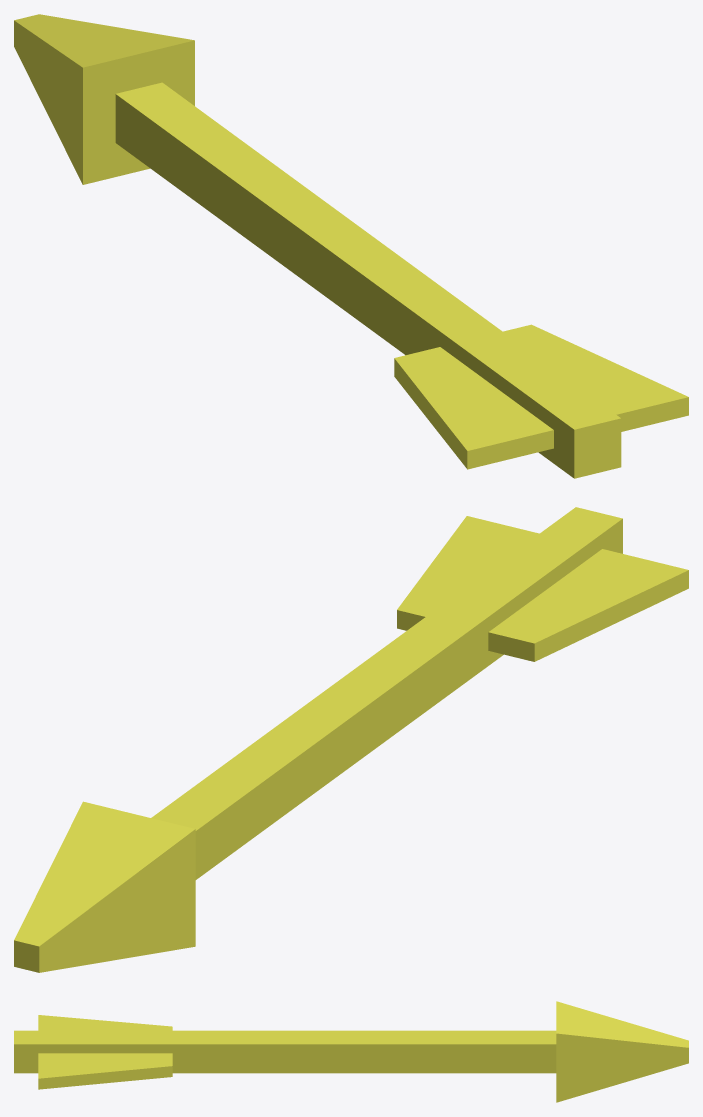
Rendered from arrow.glb.
3 renders of one model, top to bottom at view 1: azimuth 30°, elevation 25°; view 2: azimuth 150°, elevation 25°; view 3: azimuth 270°, elevation 25°, orthographic. The views are drawn at different scales.
Visible parts, largest first — view 1: Cube; view 2: Cube; view 3: Cube.
Part boxes in pixels (left/top/right/bottom): Cube: left=14, top=14, right=688, bottom=478; Cube: left=14, top=507, right=688, bottom=972; Cube: left=14, top=1001, right=688, bottom=1102.
Size of the model in its own units: 1.89 by 0.958 by 8.45.
